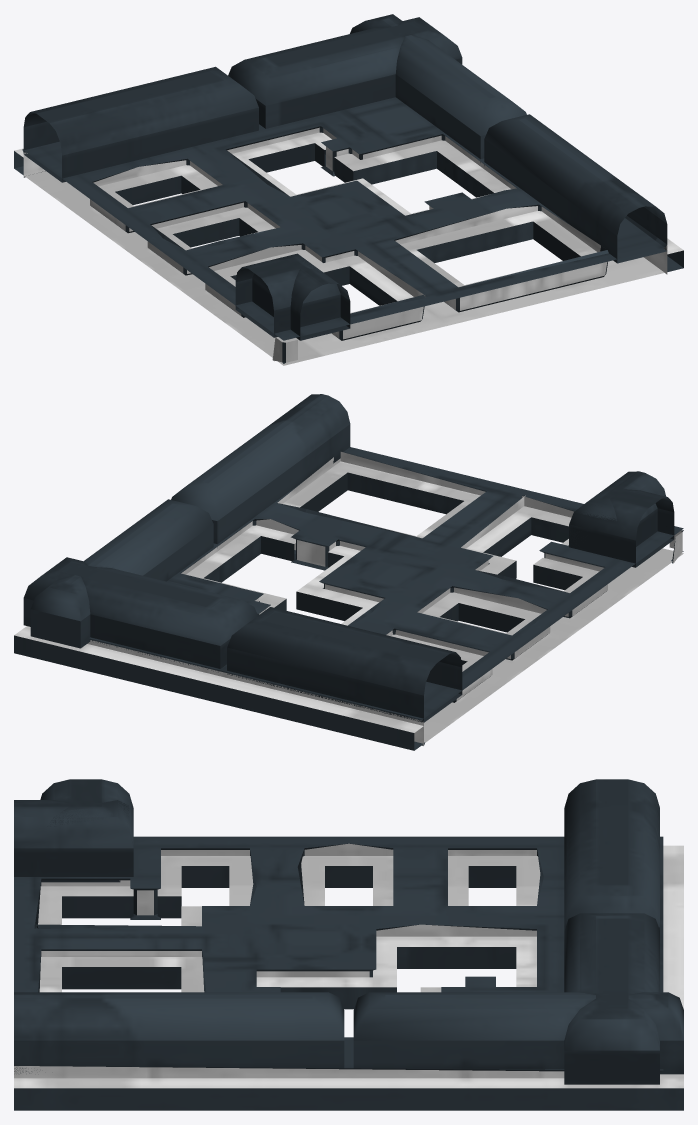
File: delbld-girder-579.glb
The picture shows the model from 3 angles, top to bottom: view 1: azimuth 30°, elevation 25°; view 2: azimuth 150°, elevation 25°; view 3: azimuth 270°, elevation 25°; orthographic projection. The views are drawn at different scales.
Visible parts, largest first — view 1: delbld-girder-579; view 2: delbld-girder-579; view 3: delbld-girder-579.
Boxes of the visible parts, x1=… form: delbld-girder-579: x1=14, y1=14, x2=683, y2=365; delbld-girder-579: x1=14, y1=394, x2=683, y2=750; delbld-girder-579: x1=14, y1=779, x2=683, y2=1110.
Bounding box in the file's own units: 2 × 0.3519 × 2.33.
3 materials, 3 textured.
